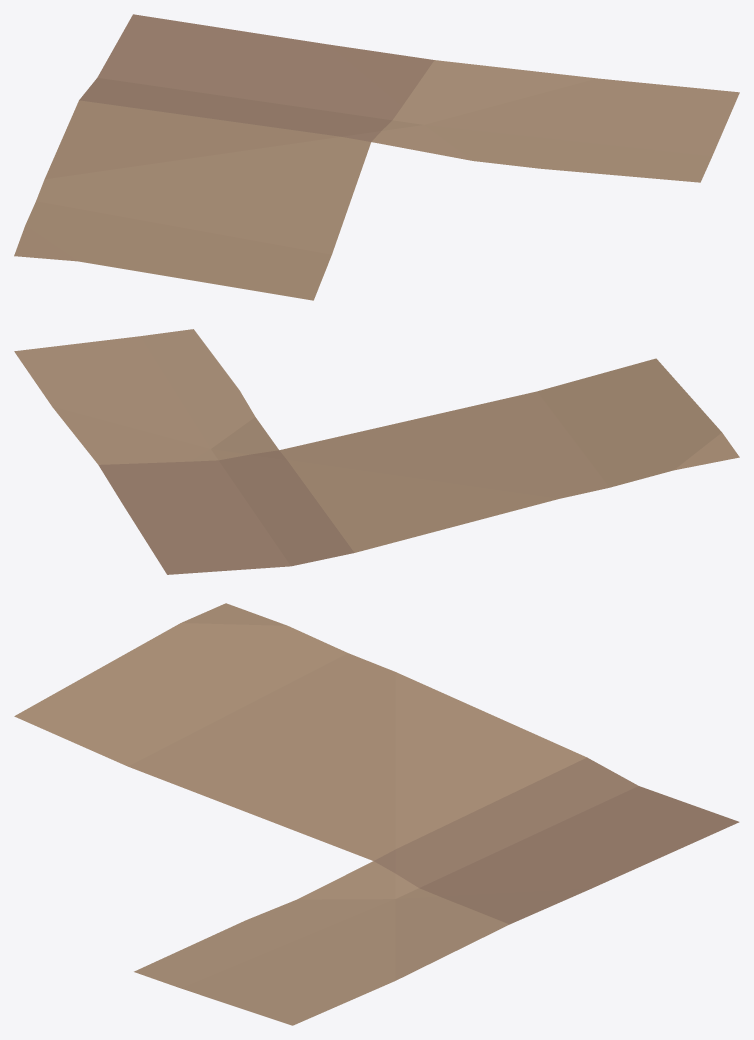
File: farm_-58_-47_soil.glb
3 views of the same model, one above another, from view 1: azimuth 30°, elevation 25°; view 2: azimuth 150°, elevation 25°; view 3: azimuth 270°, elevation 25° (orthographic). The views are drawn at different scales.
Parts seen in each view (by area): view 1: geometry_0; view 2: geometry_0; view 3: geometry_0.
Boxes of the visible parts, box(x1,y1,x2,y2) form: geometry_0: box(14, 14, 739, 300); geometry_0: box(14, 329, 739, 574); geometry_0: box(14, 603, 739, 1025).
Size of the model in its own units: 134 by 8.72 by 109.
